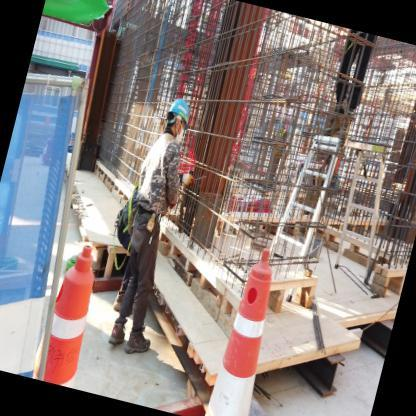safety-shoe: (124, 327, 155, 359), (105, 321, 127, 352)
